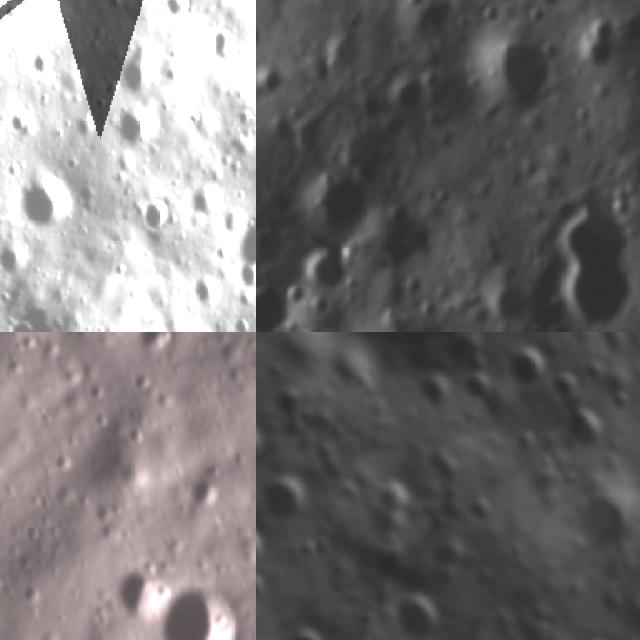crater: (547, 195, 636, 332), (551, 469, 640, 572), (474, 20, 561, 121), (300, 171, 382, 244), (163, 578, 246, 640), (549, 392, 617, 463), (377, 580, 455, 640), (16, 173, 85, 239), (331, 117, 402, 181), (256, 462, 317, 531), (493, 333, 558, 397), (90, 49, 156, 100), (446, 354, 504, 411), (401, 361, 456, 420), (112, 107, 164, 159), (134, 188, 182, 244), (301, 245, 349, 298), (115, 576, 171, 617), (230, 205, 256, 286), (541, 363, 585, 409), (270, 612, 342, 640), (190, 464, 230, 514), (187, 269, 228, 313), (461, 491, 502, 534), (256, 65, 294, 108), (256, 286, 291, 332), (256, 415, 277, 486), (210, 22, 243, 65), (0, 233, 27, 279), (256, 512, 274, 580), (143, 332, 179, 360), (154, 0, 195, 23), (524, 0, 571, 18), (256, 17, 271, 66), (256, 567, 270, 615), (392, 0, 435, 12)
